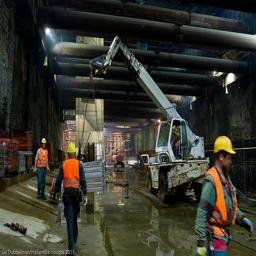hat: (211, 133, 240, 163), (65, 141, 81, 158), (36, 136, 51, 149)
vest: (199, 168, 244, 250), (57, 159, 85, 197), (35, 147, 51, 179)
